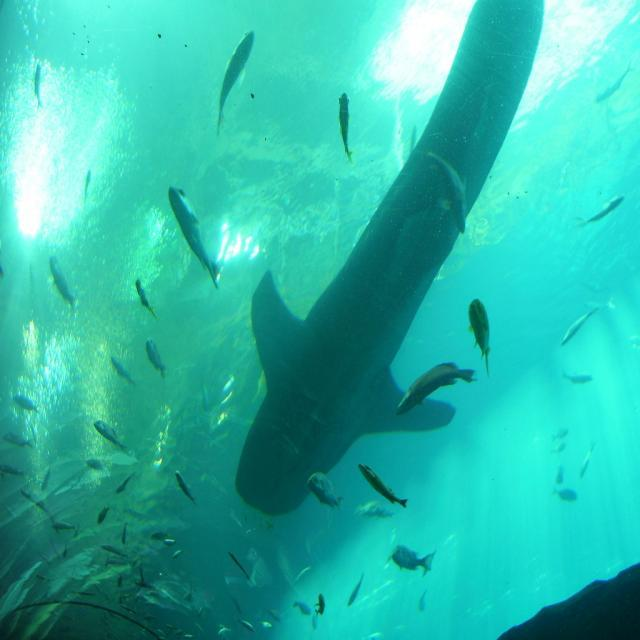Shark: (232, 1, 546, 516), (169, 187, 219, 289)
